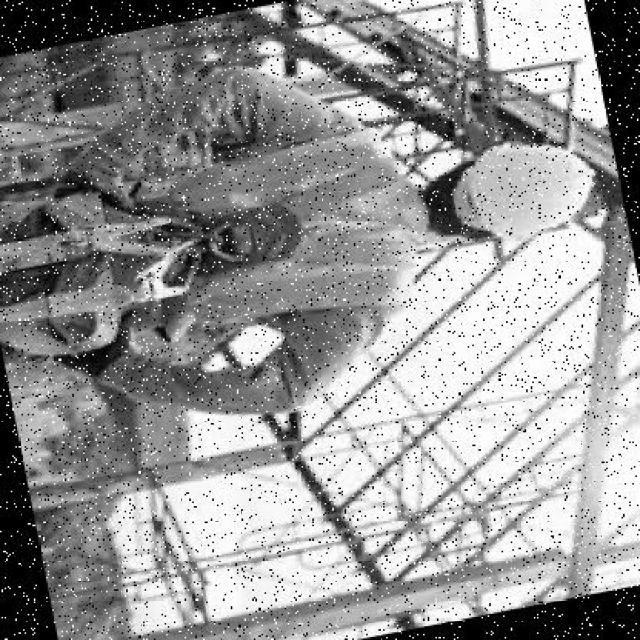Arnes_seguridad: (0, 116, 437, 370)
